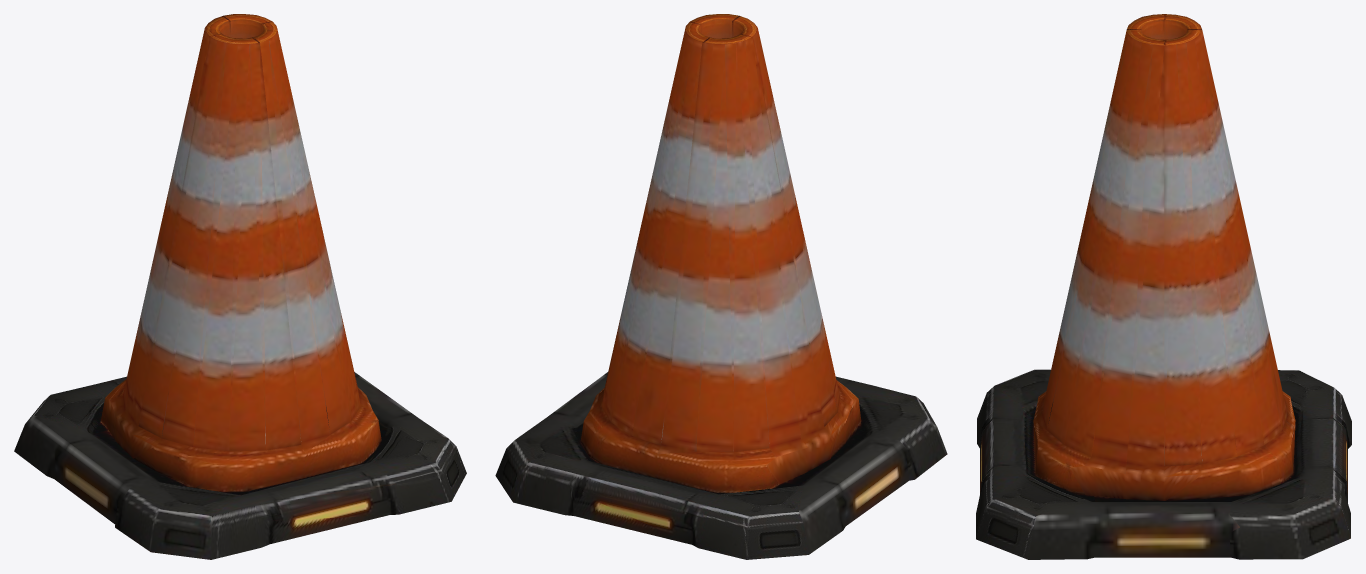
The model's file is traffic_cone_01.glb.
3 renders of one model, left to right at view 1: azimuth 30°, elevation 25°; view 2: azimuth 150°, elevation 25°; view 3: azimuth 270°, elevation 25°, orthographic. The views are drawn at different scales.
Parts seen in each view (by area): view 1: tripo_node_b5aa439d-e227-41eb-b973-79d4de6e06ab; view 2: tripo_node_b5aa439d-e227-41eb-b973-79d4de6e06ab; view 3: tripo_node_b5aa439d-e227-41eb-b973-79d4de6e06ab.
Part boxes in pixels (x1,y1,x2,y2): tripo_node_b5aa439d-e227-41eb-b973-79d4de6e06ab: [14, 14, 466, 559]; tripo_node_b5aa439d-e227-41eb-b973-79d4de6e06ab: [495, 14, 947, 559]; tripo_node_b5aa439d-e227-41eb-b973-79d4de6e06ab: [976, 14, 1351, 559].
Bounding box in the file's own units: 0.7676 × 0.998 × 0.7559.
Materials: 1 (1 with a texture image).
